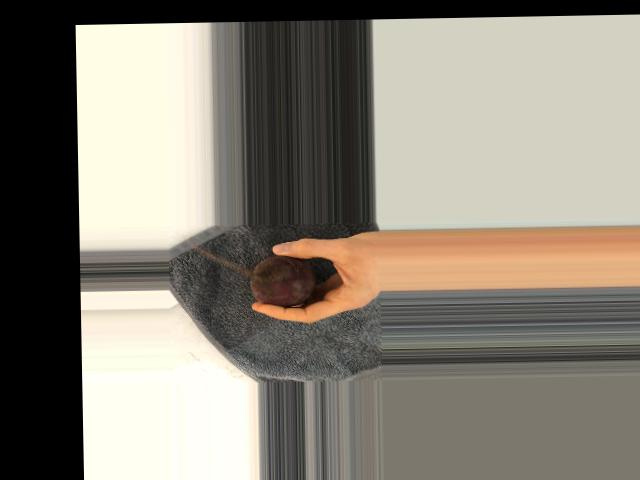beet: (250, 254, 316, 307)
